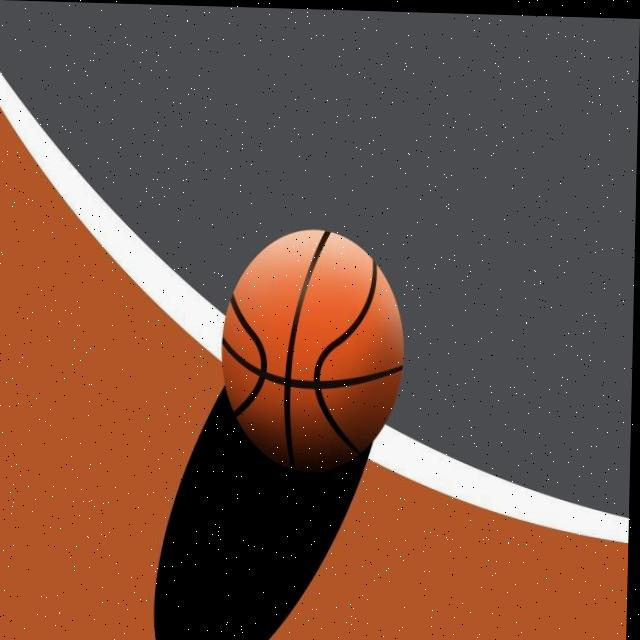Basketball: (218, 227, 407, 477)
